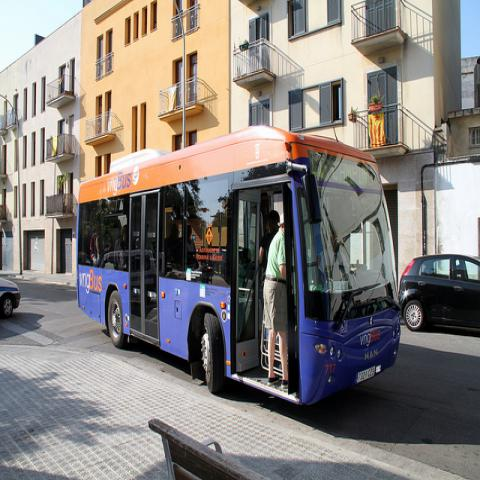bus: (76, 104, 402, 406)
car: (402, 255, 480, 334), (0, 274, 21, 318)
